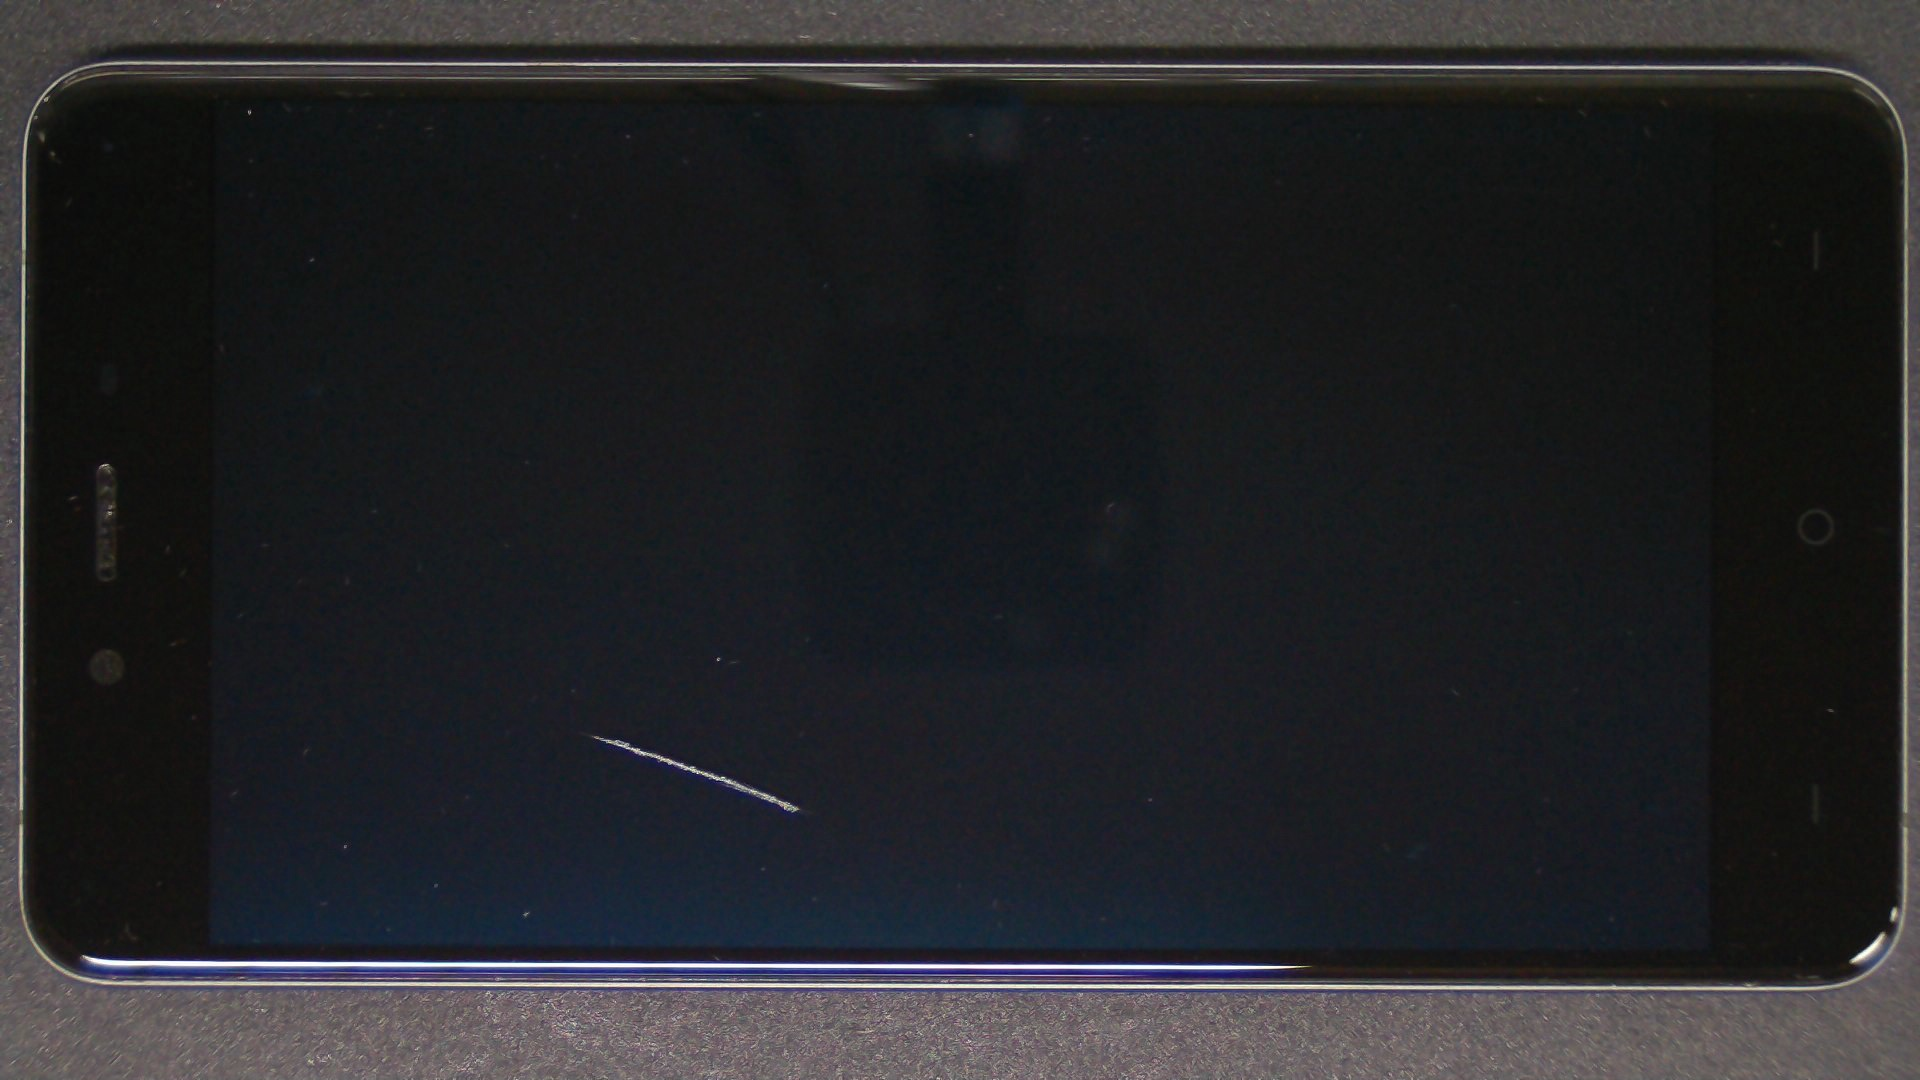oil: (293, 365, 887, 1080)
